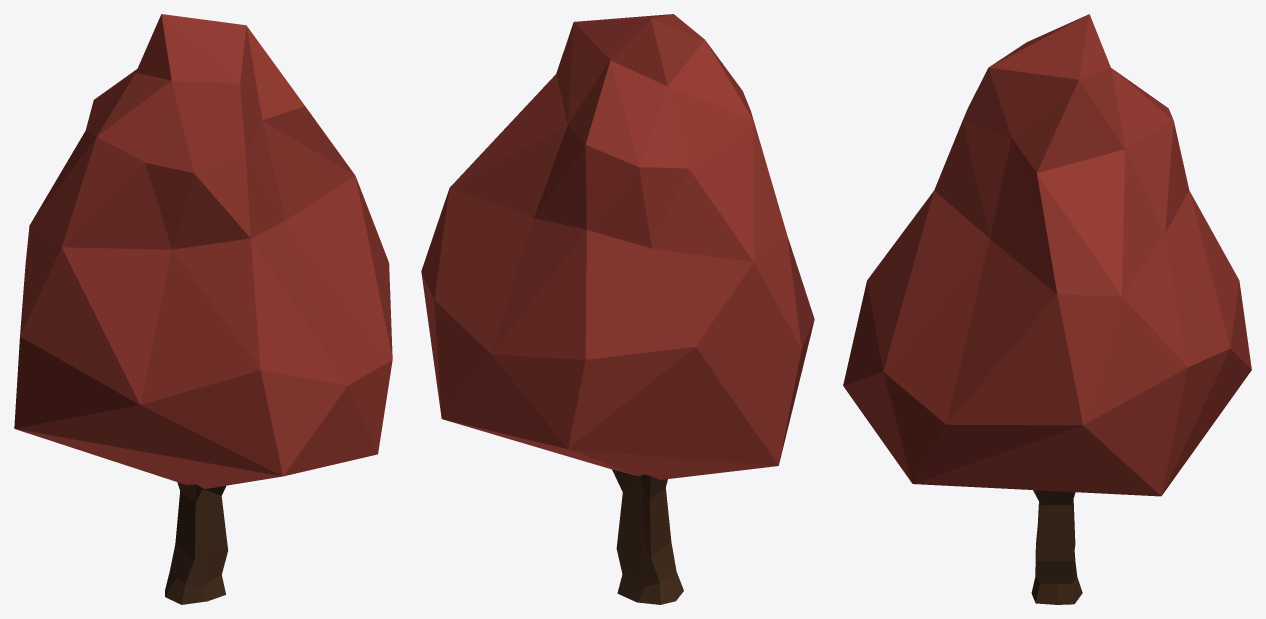
The model's file is Tree_27_Red.fbx.
The picture shows the model from 3 angles, left to right: view 1: azimuth 30°, elevation 25°; view 2: azimuth 150°, elevation 25°; view 3: azimuth 270°, elevation 25°; orthographic projection. The views are drawn at different scales.
Parts seen in each view (by area): view 1: Tree_27_Red_Part_1, Tree_27_Red_Part_2; view 2: Tree_27_Red_Part_1, Tree_27_Red_Part_2; view 3: Tree_27_Red_Part_1, Tree_27_Red_Part_2.
Boxes of the visible parts, x1,y1,x2,y2 form: Tree_27_Red_Part_1: (14, 14, 392, 488); Tree_27_Red_Part_2: (165, 482, 228, 604); Tree_27_Red_Part_1: (421, 14, 814, 479); Tree_27_Red_Part_2: (612, 469, 683, 604); Tree_27_Red_Part_1: (843, 14, 1251, 496); Tree_27_Red_Part_2: (1031, 490, 1082, 604).
Bounding box in the file's own units: 470 × 696 × 451.
